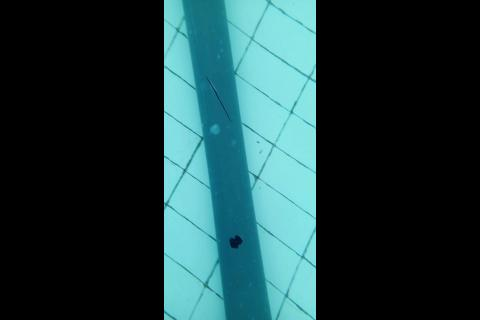kebocoran: (228, 233, 244, 250)
keretakan: (206, 75, 233, 123)
